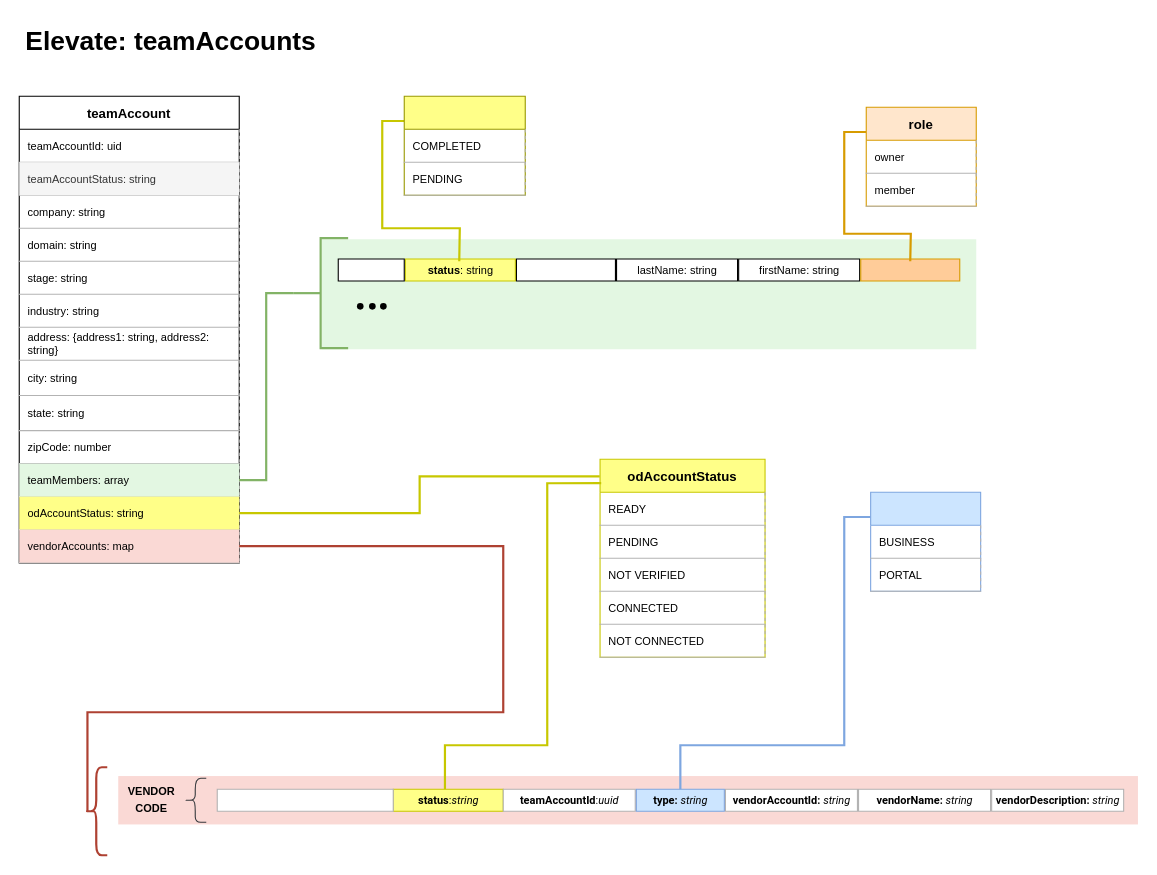
Some shapes in this 1157 by 875 pixel diagram are drawn without their labels. The shapes that lost their labels are listed below. From the top down, each one's box as (x1, y1, x2, y2) in pixels, then its label:
(403, 95, 525, 195): status
(337, 258, 404, 281): uid : uid
(515, 258, 615, 281): email: string
(860, 258, 960, 281): role: string
(870, 491, 981, 591): type
(216, 788, 393, 811): connectedAccountId: uuid
